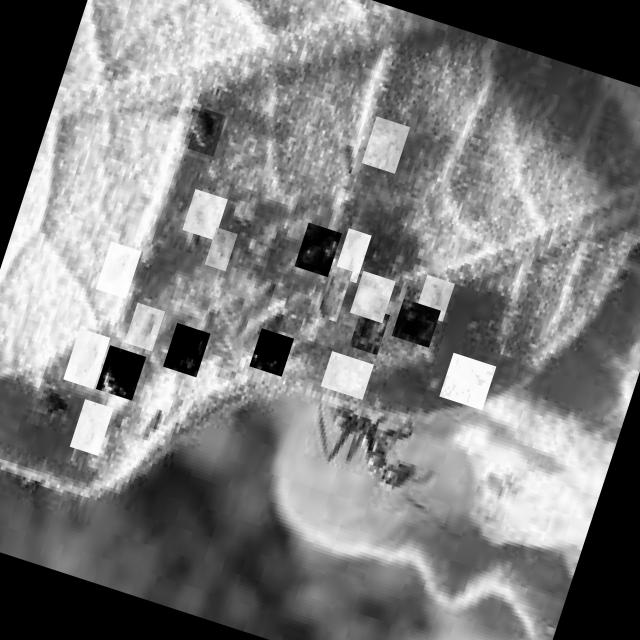aphid: (439, 352, 496, 410), (63, 328, 110, 389), (96, 346, 146, 400), (163, 322, 211, 378), (294, 222, 342, 278), (362, 117, 409, 174), (308, 262, 352, 322), (321, 351, 374, 400), (95, 242, 141, 298), (70, 399, 114, 456), (180, 105, 227, 157), (392, 299, 441, 348), (350, 271, 396, 323), (182, 190, 228, 240), (249, 328, 294, 377), (334, 228, 372, 284), (349, 306, 390, 356), (124, 303, 165, 352), (415, 275, 455, 322), (205, 228, 238, 272)
